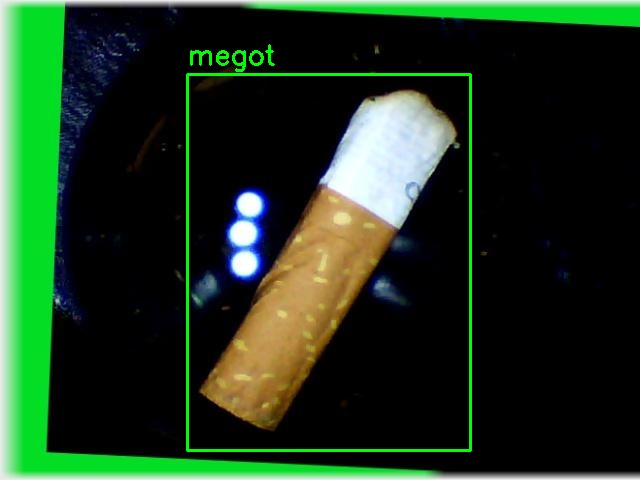megot: (187, 74, 470, 450)
